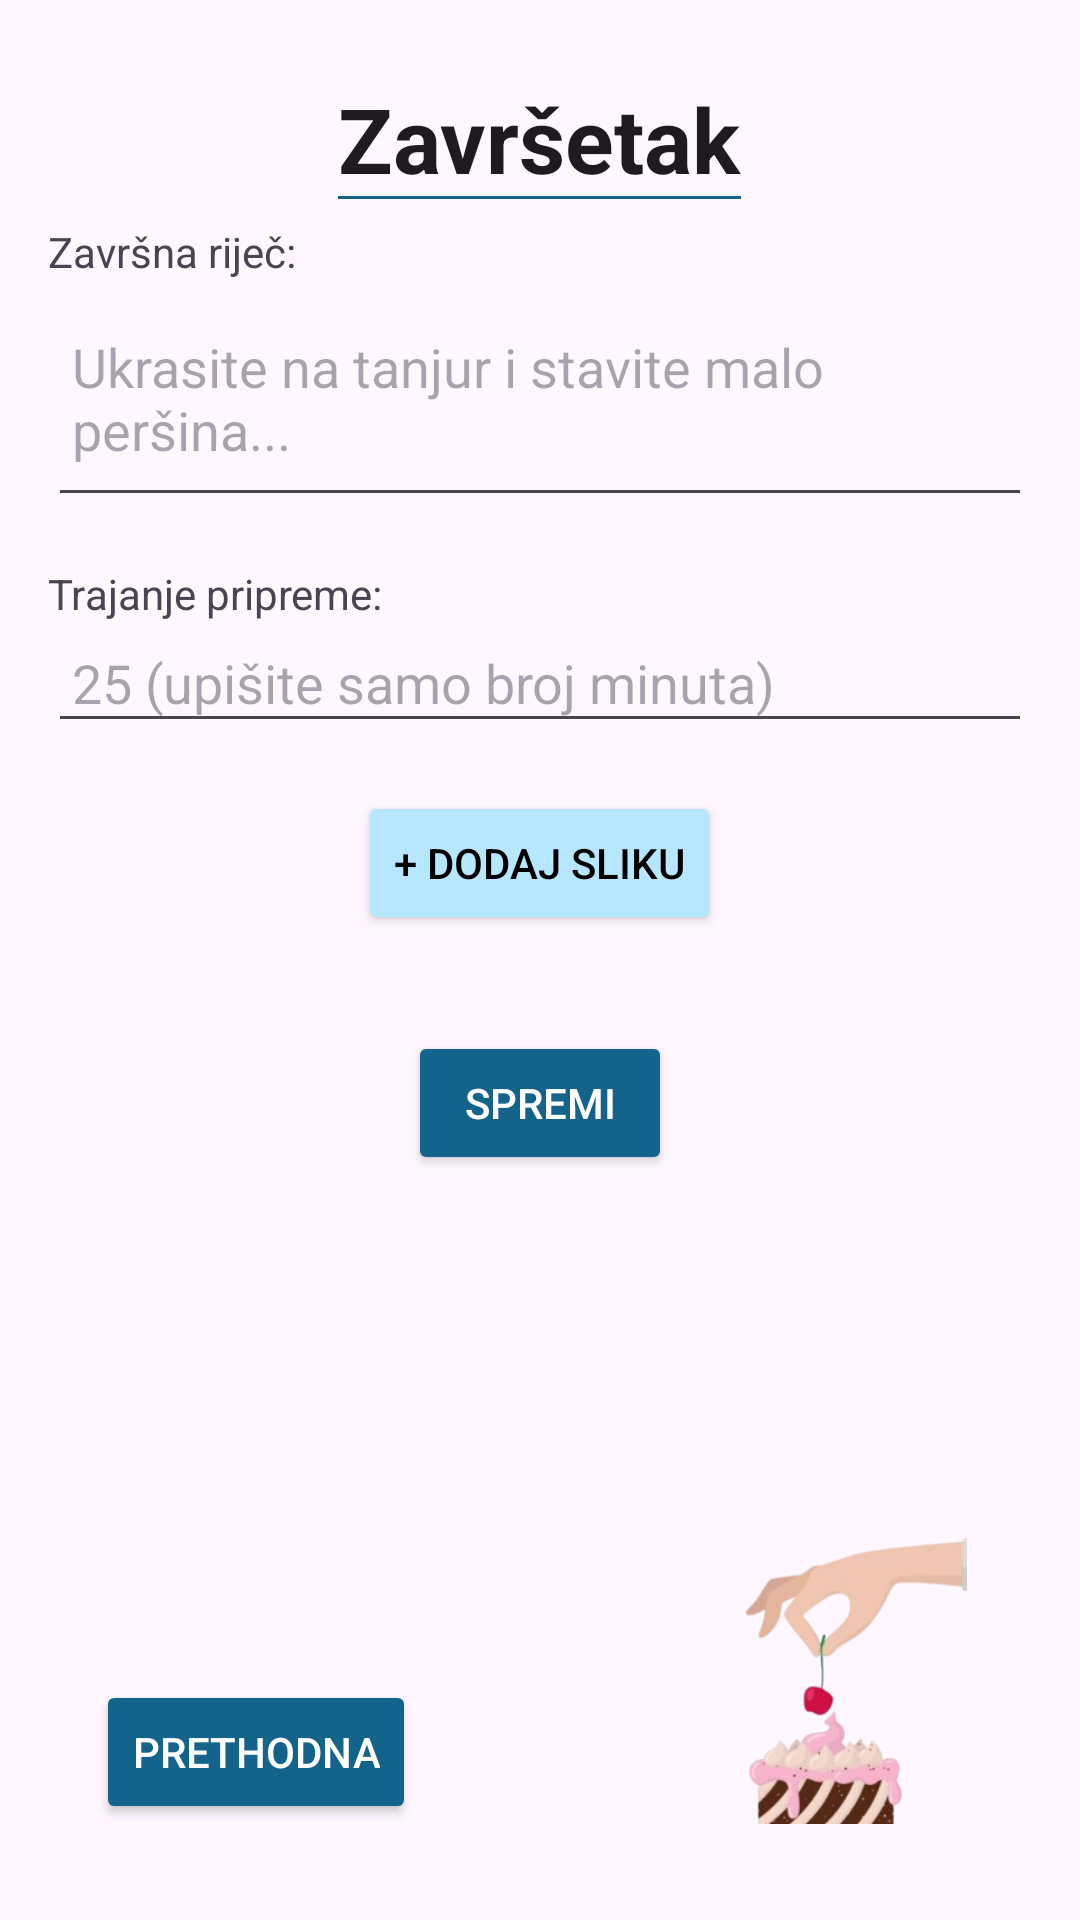

Point at icon controls on the screen. Image size 1080w x 1920h, points as point (x, y).
adding cake: point (856, 1681)
